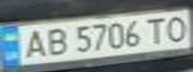0: (106, 19, 127, 51)
5: (69, 22, 93, 54)
6: (124, 17, 148, 48)
7: (90, 20, 112, 52)
A: (15, 27, 51, 61)
B: (39, 25, 69, 57)
O: (160, 12, 193, 43)
T: (142, 15, 172, 45)
